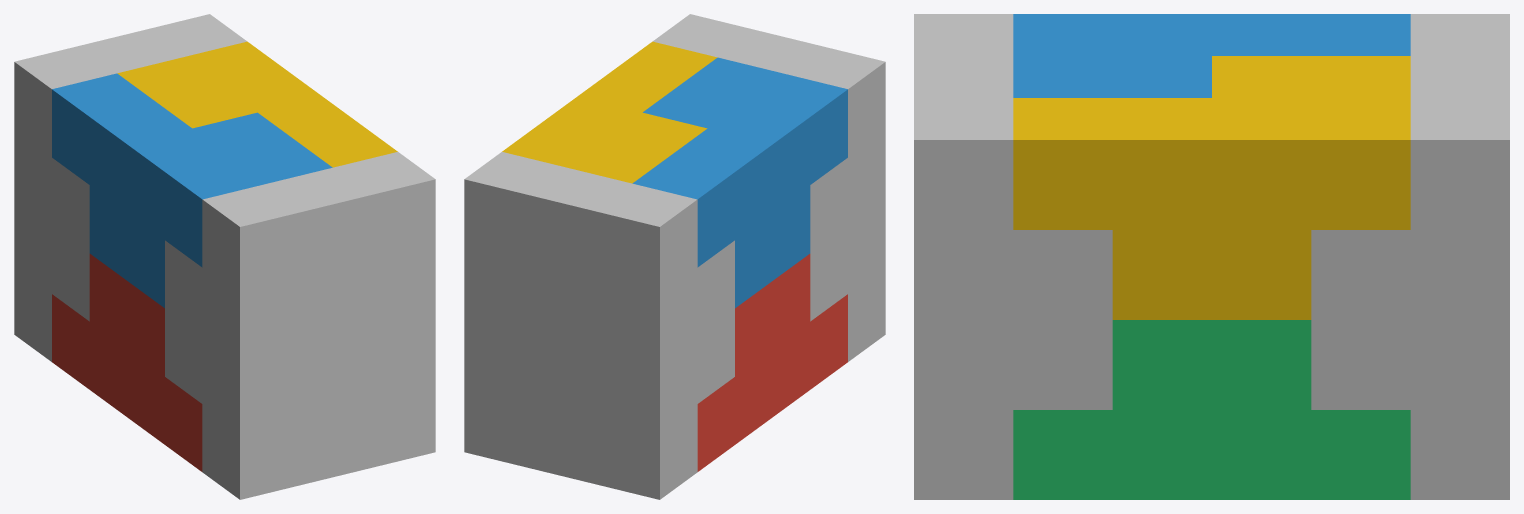
Rendered from tiling.obj.
3 views of the same model, side by side, from view 1: azimuth 30°, elevation 25°; view 2: azimuth 150°, elevation 25°; view 3: azimuth 270°, elevation 25° (orthographic). The views are drawn at different scales.
Visible parts, largest first — view 1: copy_5, copy_8, copy_2, copy_6, copy_1, copy_4, copy_7; view 2: copy_6, copy_2, copy_7, copy_5, copy_1, copy_4, copy_8; view 3: copy_4, copy_8, copy_7, copy_3, copy_2, copy_6, copy_5.
Boxes of the visible parts, x1,y1,x2,y2 form: copy_5: (165, 183, 370, 499); copy_8: (268, 152, 435, 467); copy_2: (52, 73, 332, 308); copy_6: (14, 30, 181, 361); copy_1: (52, 254, 202, 471); copy_4: (117, 41, 397, 167); copy_7: (145, 14, 246, 57); copy_6: (529, 167, 734, 499); copy_2: (632, 57, 847, 308); copy_7: (464, 152, 594, 483); copy_5: (783, 46, 885, 361); copy_1: (697, 254, 847, 471); copy_4: (502, 41, 717, 183); copy_8: (653, 14, 820, 73); copy_4: (1013, 56, 1410, 319); copy_8: (914, 56, 1112, 499); copy_7: (1311, 98, 1509, 499); copy_3: (1013, 320, 1410, 499); copy_2: (1013, 14, 1410, 97); copy_6: (1410, 14, 1509, 97); copy_5: (914, 14, 1013, 55).
Size of the model in its own units: 3 by 4 by 6.
